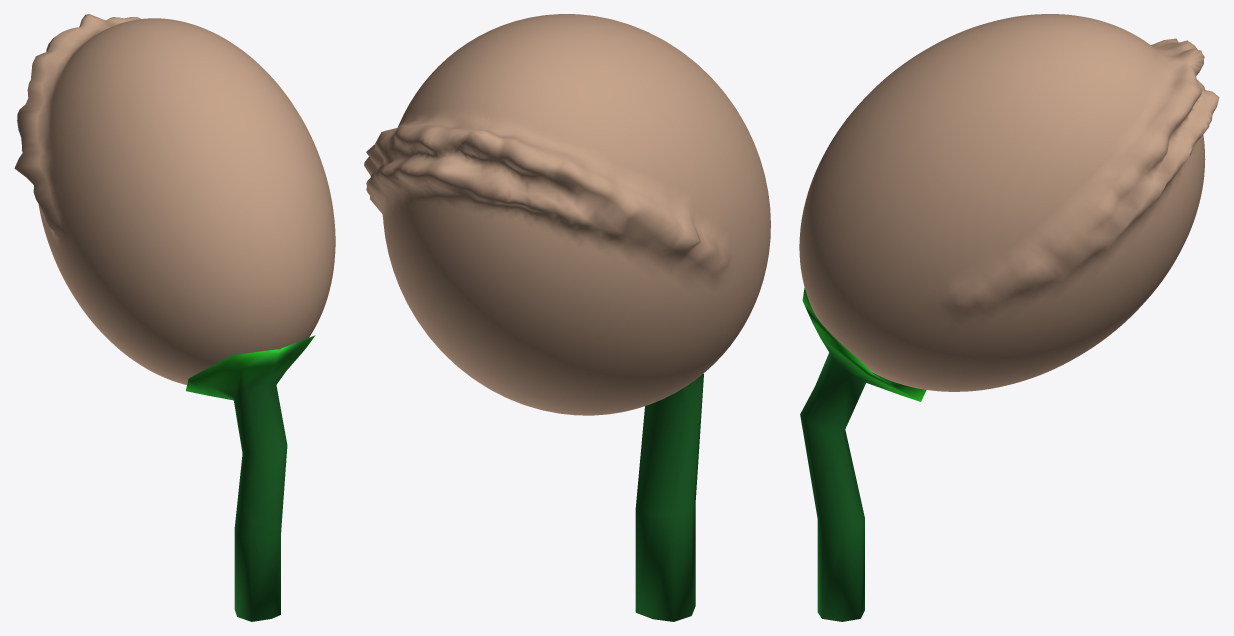
The model's file is Venus.fbx.
The picture shows the model from 3 angles, left to right: view 1: azimuth 30°, elevation 25°; view 2: azimuth 150°, elevation 25°; view 3: azimuth 270°, elevation 25°; orthographic projection. The views are drawn at different scales.
Visible parts, largest first — view 1: VenusBud, VenusStick; view 2: VenusBud, VenusStick; view 3: VenusBud, VenusStick.
Boxes of the visible parts, x1,y1,x2,y2 form: VenusBud: [14, 14, 335, 384]; VenusStick: [185, 335, 315, 621]; VenusBud: [364, 14, 770, 415]; VenusStick: [635, 374, 703, 621]; VenusBud: [799, 14, 1219, 391]; VenusStick: [800, 288, 926, 621].
Bounding box in the file's own units: 27.38 × 51.12 × 33.36.
